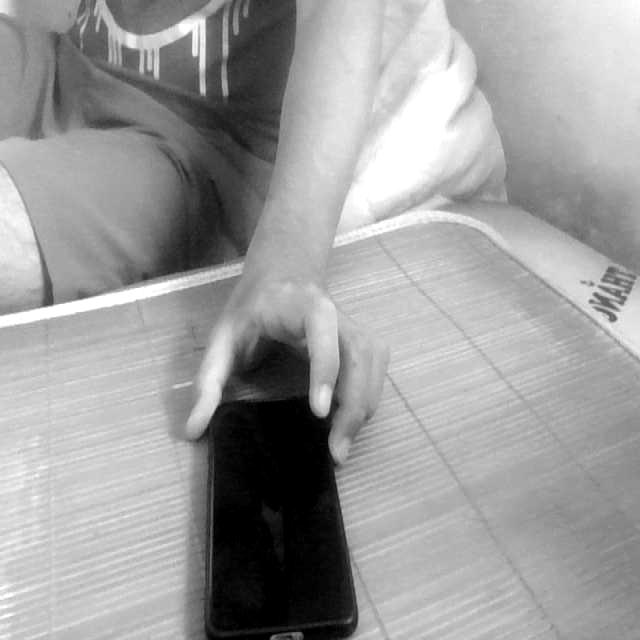phone: (184, 384, 366, 640)
